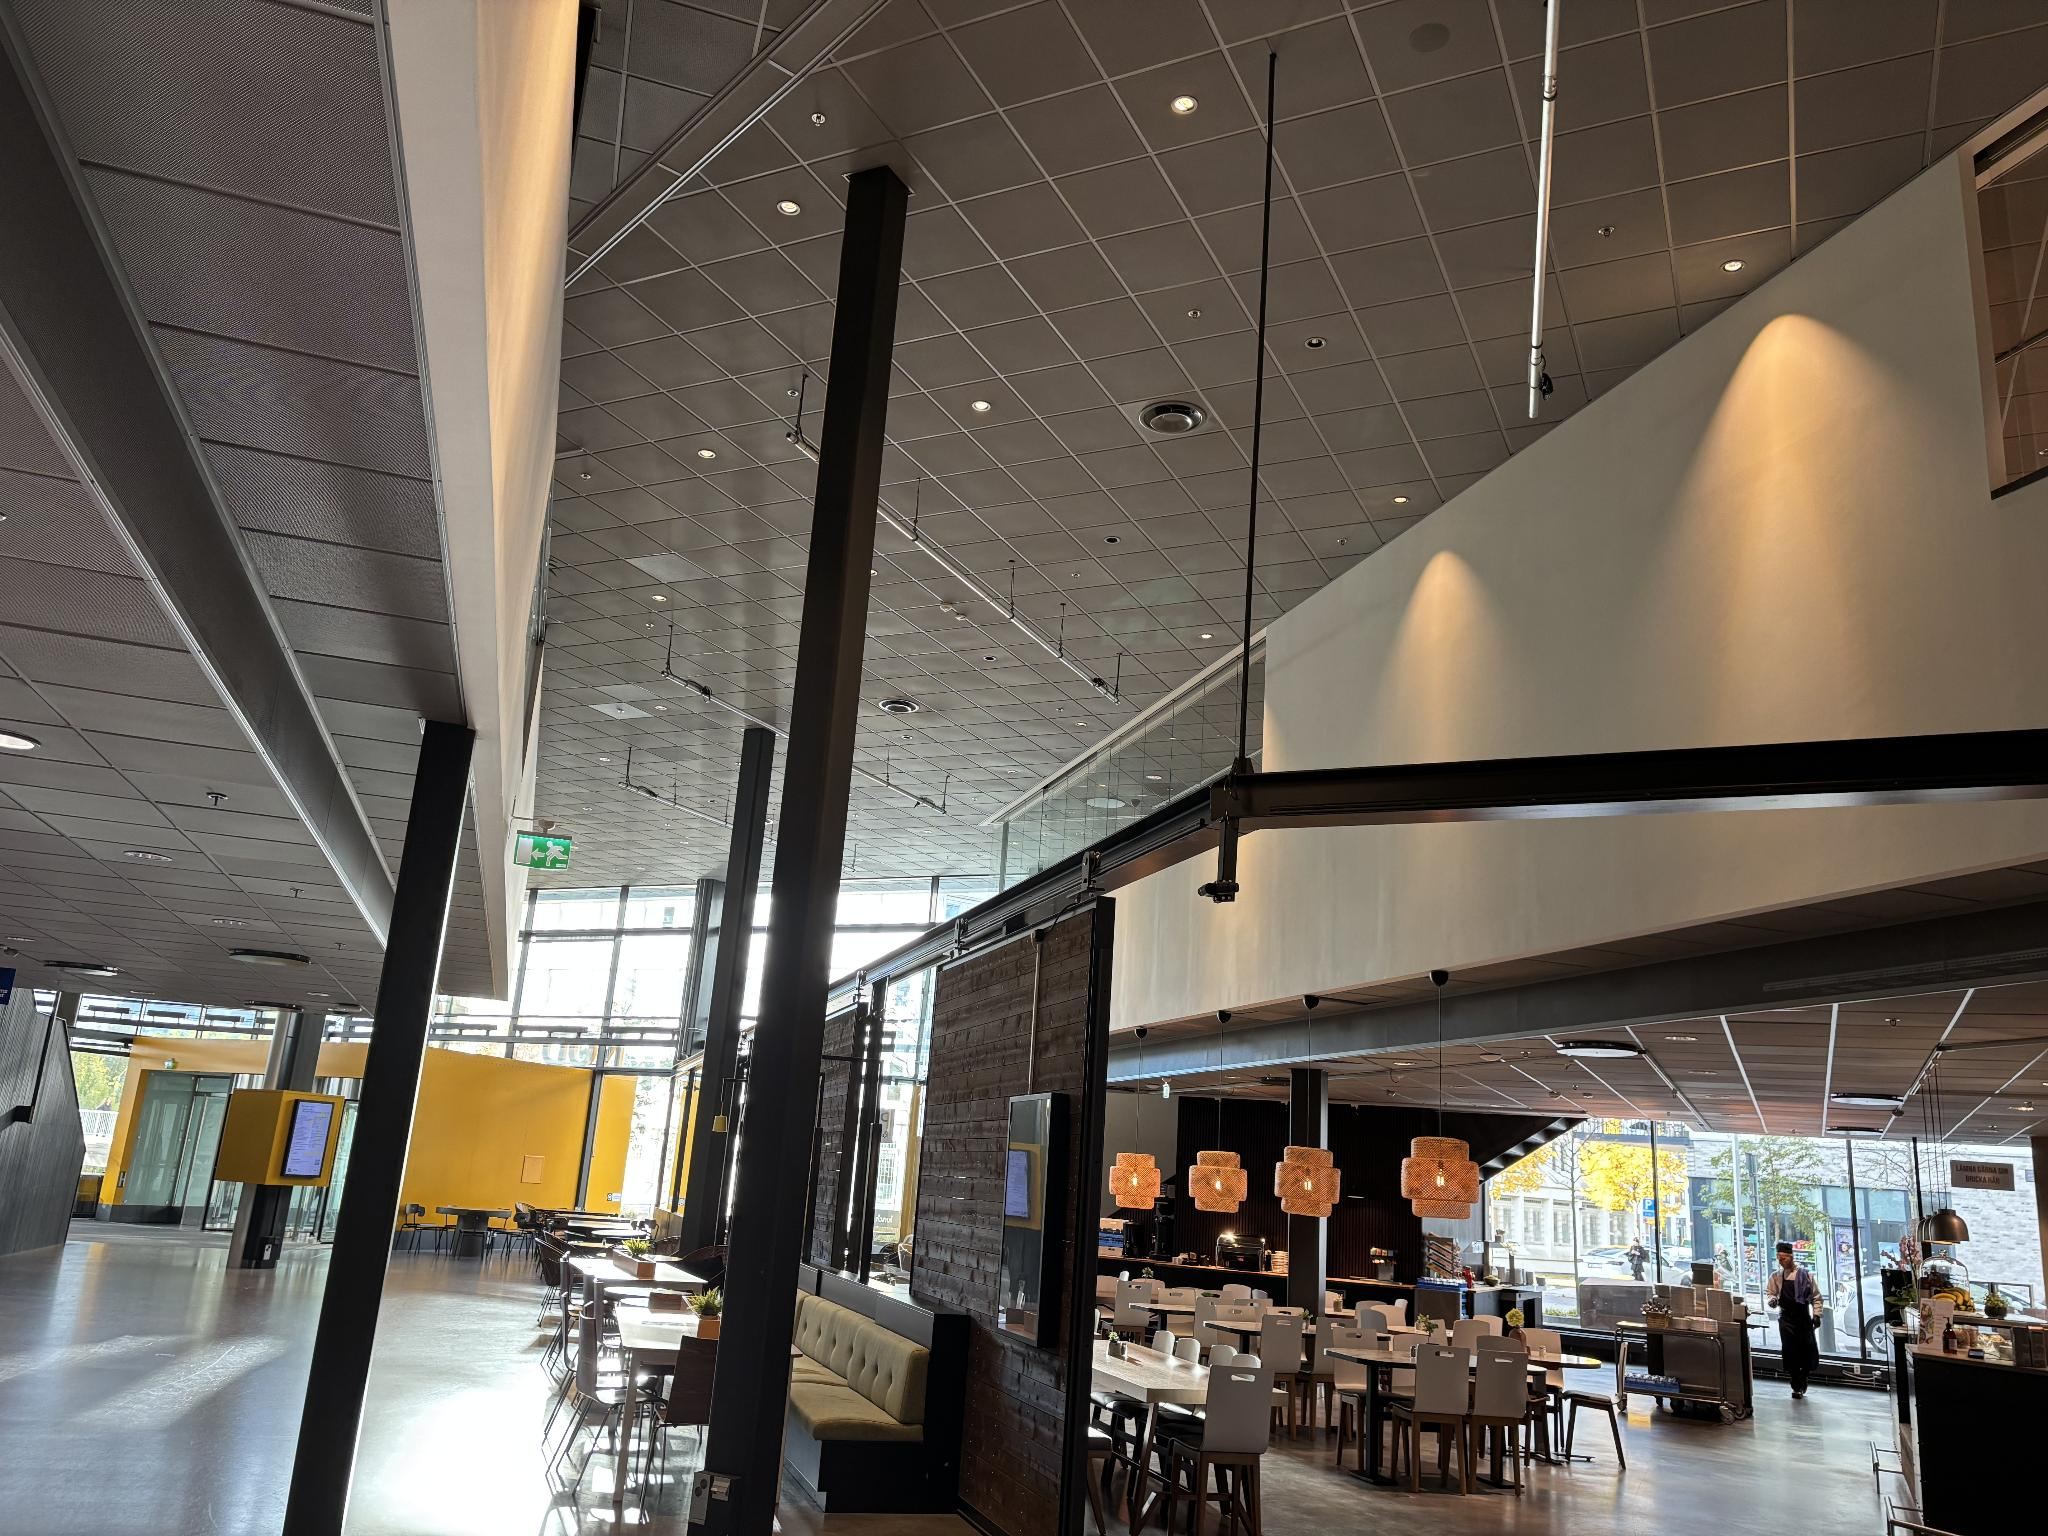exit_sign: (513, 815, 575, 880)
